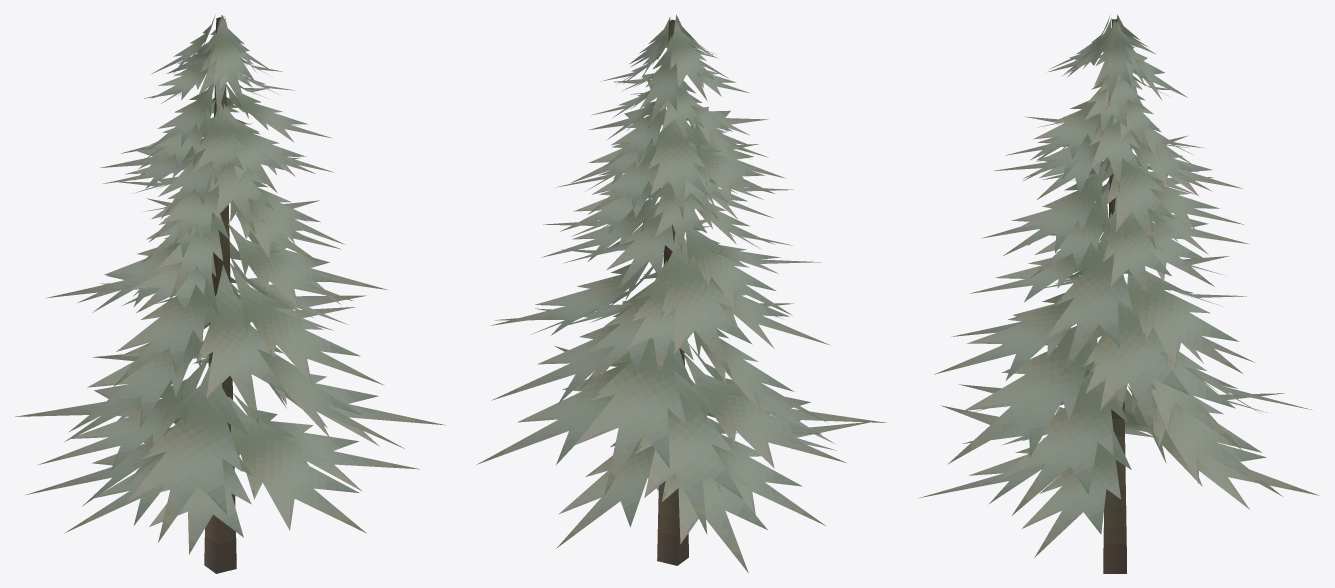
The model's file is pine.glb.
The picture shows the model from 3 angles, left to right: view 1: azimuth 30°, elevation 25°; view 2: azimuth 150°, elevation 25°; view 3: azimuth 270°, elevation 25°; orthographic projection.
Visible parts, largest first — view 1: Plane.013, Plane.002, Plane.034, Plane.038, Plane.009, Plane.025, Plane.033, Plane.006, Cube, Plane.046, Plane.030, Plane.005 (+26 smaller); view 2: Plane.024, Plane.020, Plane.044, Plane.009, Plane.023, Plane.004, Plane, Plane.076, Plane.041, Plane.001, Plane.039, Plane.025 (+24 smaller); view 3: Plane.030, Plane.022, Plane.035, Plane.043, Plane.039, Plane.006, Plane.023, Plane.038, Plane.031, Plane.062, Plane.051, Cube (+24 smaller).
Part boxes in pixels (x1,y1,x2,y2): Plane.013: [126, 362, 248, 542]; Plane.002: [227, 396, 366, 533]; Plane.034: [193, 264, 286, 426]; Plane.038: [230, 263, 384, 385]; Plane.009: [38, 355, 210, 469]; Plane.025: [68, 302, 208, 432]; Plane.033: [113, 252, 218, 387]; Plane.006: [233, 393, 419, 491]; Cube: [204, 17, 236, 573]; Plane.046: [228, 223, 353, 306]; Plane.030: [253, 327, 404, 448]; Plane.005: [149, 453, 252, 554]; Plane.024: [575, 338, 693, 495]; Plane.020: [635, 349, 742, 534]; Plane.044: [653, 233, 752, 377]; Plane.009: [682, 352, 846, 468]; Plane.023: [476, 360, 631, 464]; Plane.004: [662, 444, 767, 573]; Plane: [556, 435, 658, 548]; Plane.076: [647, 119, 708, 218]; Plane.041: [685, 223, 792, 315]; Plane.001: [708, 418, 825, 525]; Plane.039: [489, 261, 648, 335]; Plane.025: [693, 328, 826, 421]; Plane.030: [947, 326, 1097, 464]; Plane.022: [999, 373, 1127, 515]; Plane.035: [1088, 281, 1189, 432]; Plane.043: [1042, 212, 1133, 375]; Plane.039: [1125, 271, 1242, 373]; Plane.006: [1022, 409, 1131, 557]; Plane.023: [1132, 391, 1282, 496]; Plane.038: [934, 293, 1077, 380]; Plane.031: [1152, 351, 1241, 449]; Plane.062: [1002, 157, 1108, 256]; Plane.051: [1099, 196, 1171, 300]; Cube: [1103, 19, 1126, 573].
Size of the model in its own units: 10.77 by 16.06 by 10.59.
Materials: 2 (2 with a texture image).
